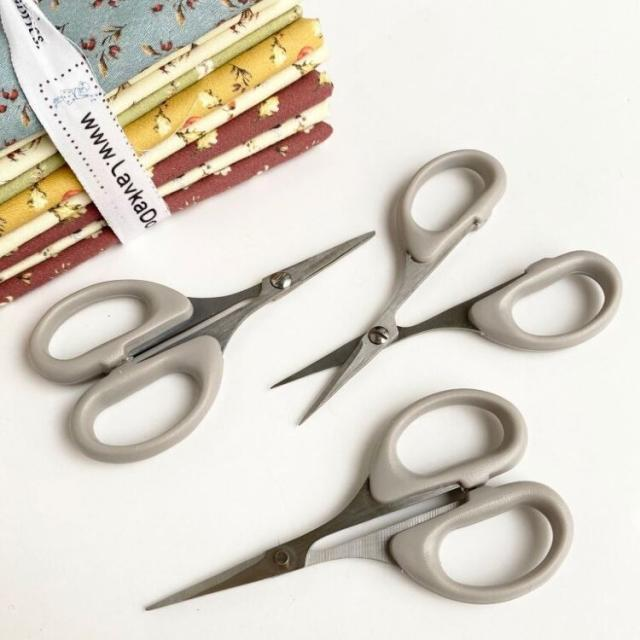tesoura: (261, 127, 630, 438), (127, 381, 578, 623), (9, 212, 388, 485)
